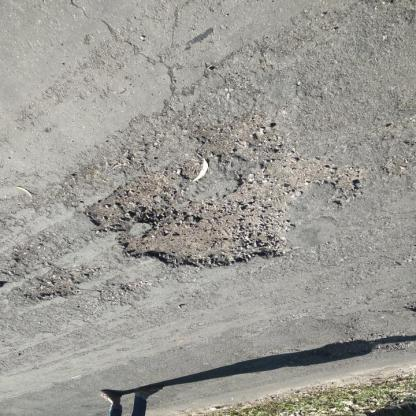pothole: (84, 115, 368, 275), (21, 269, 83, 305)
